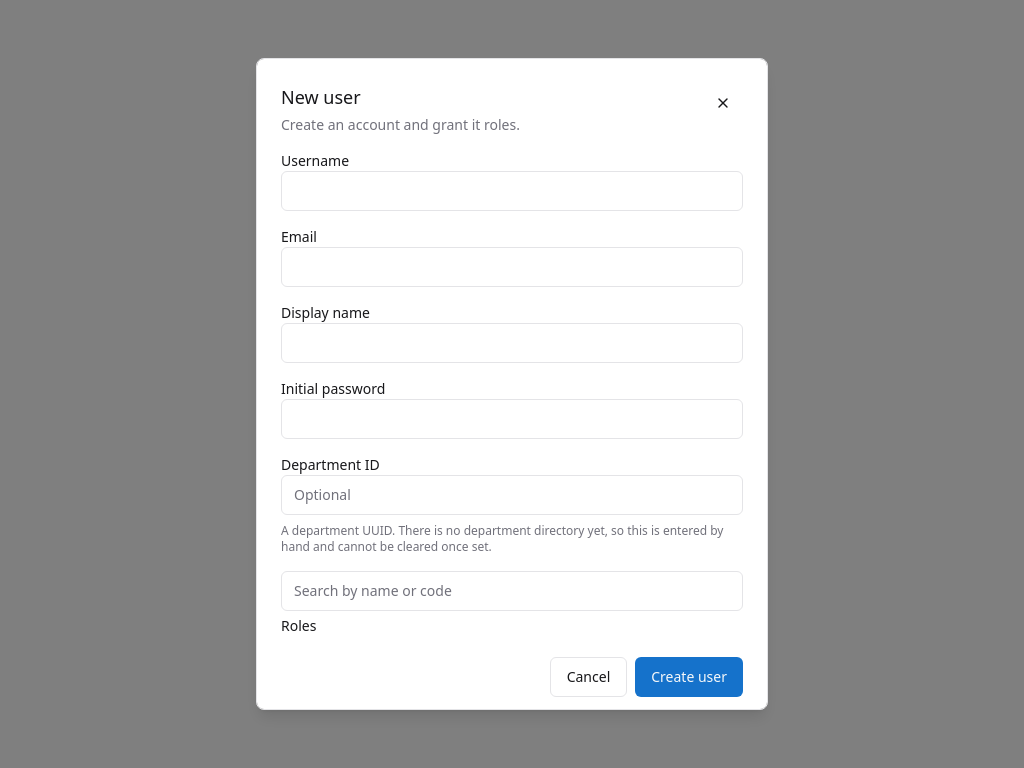
Test case: UserFormDialog › shows a duplicate as a field error rather than a detached message
Type "bima" into the field with id "user-username" at (512, 191), box [281,171,743,211]
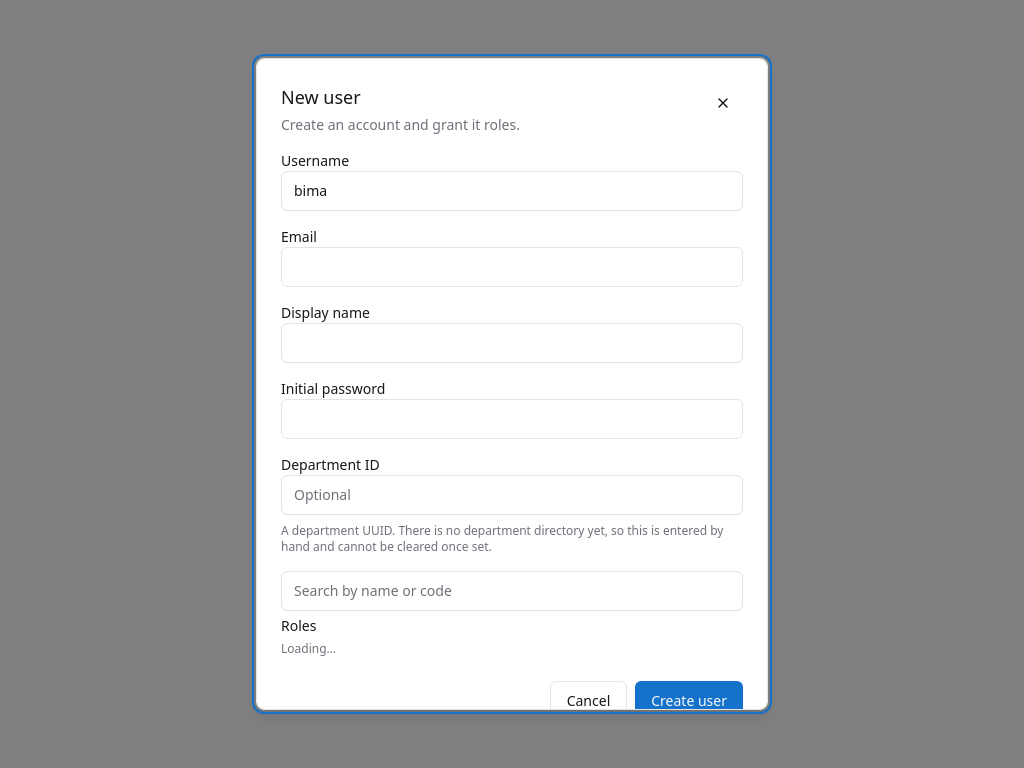
Type "bima@example.com" into the field with id "user-email" at (512, 267), box [281,247,743,287]
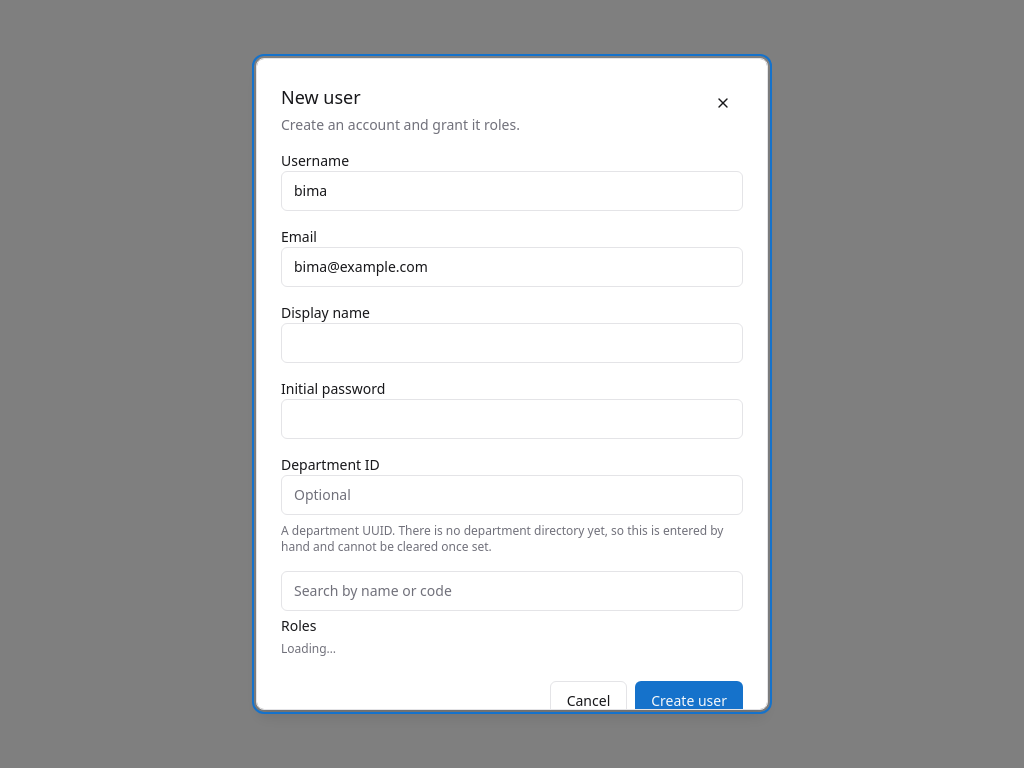
Type "Bima Santoso" into the field with id "user-display-name" at (512, 343), box [281,323,743,363]
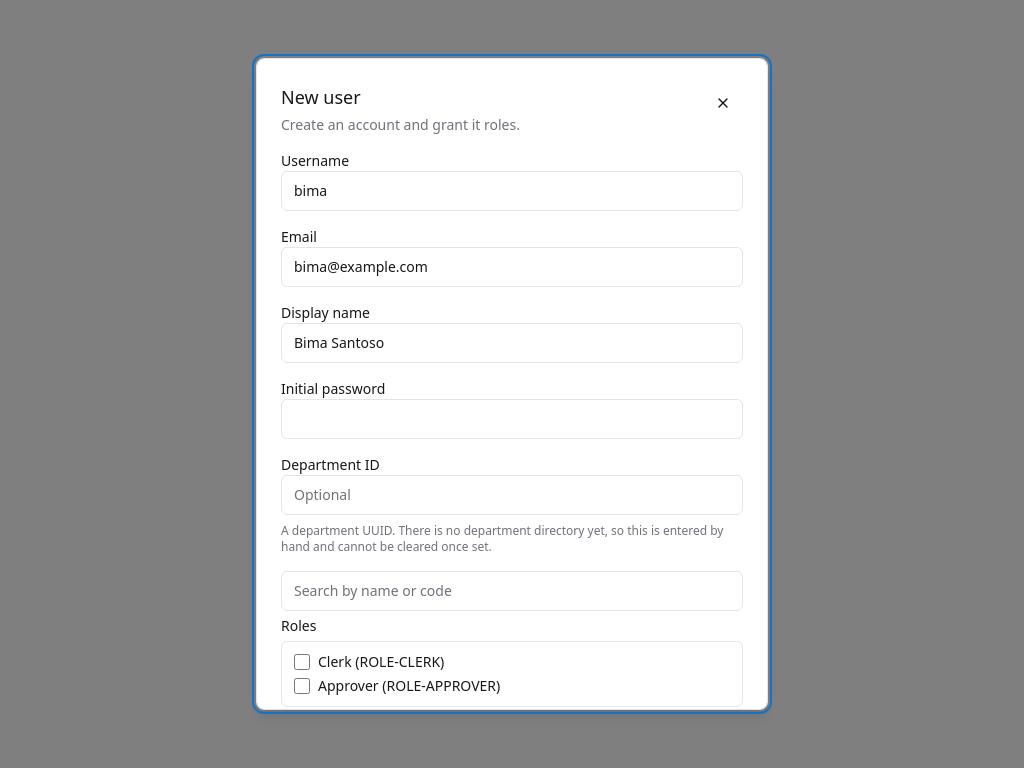
Type "a-long-enough-password" into the password field with id "user-password" at (512, 419), box [281,399,743,439]
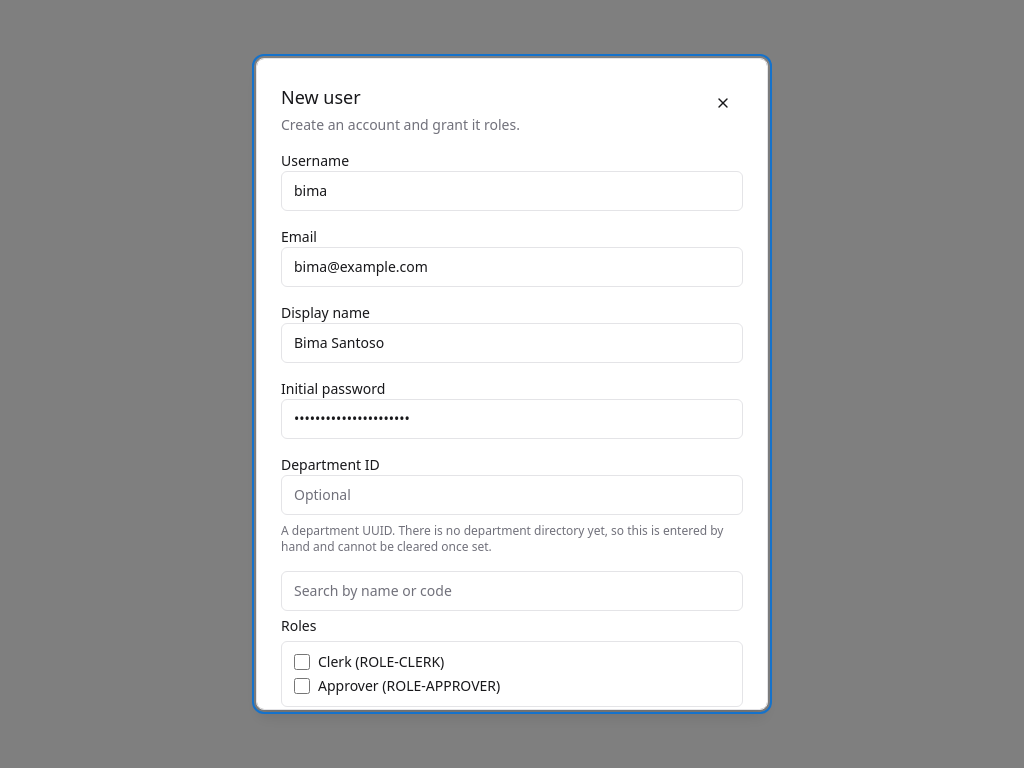
Submit the form, box [281,151,743,707]
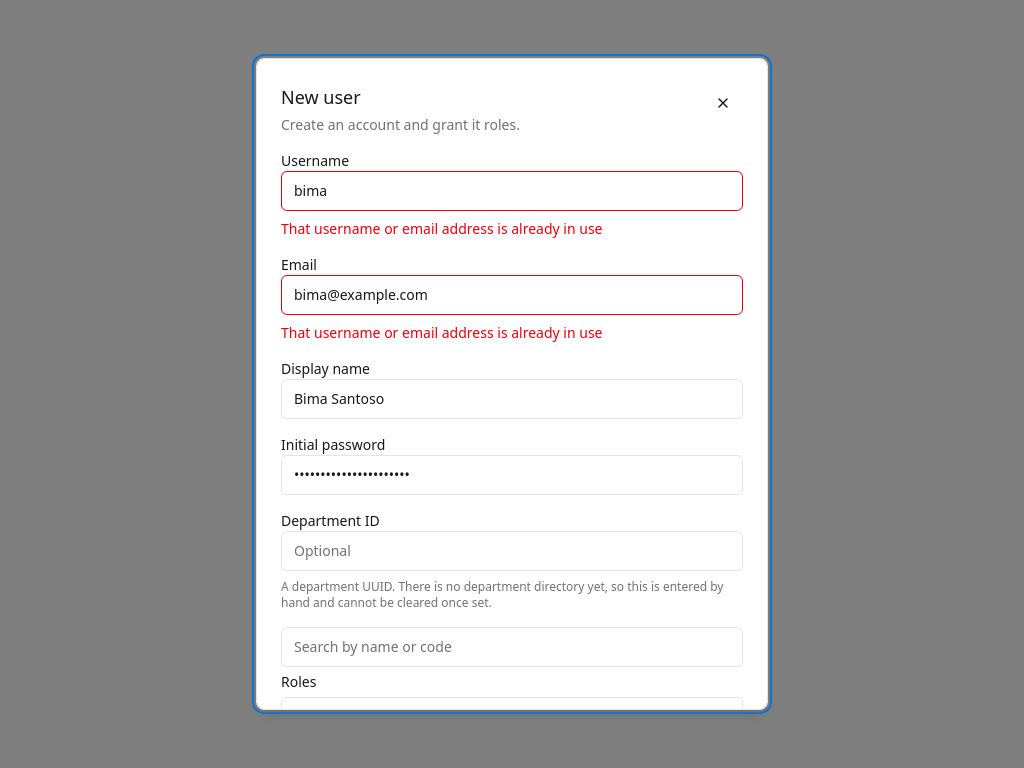
Check: the text with id "user-username-error" shows "already in use", box [281,219,602,238]
Check: the text with id "user-email-error" shows "already in use", box [281,323,602,342]
